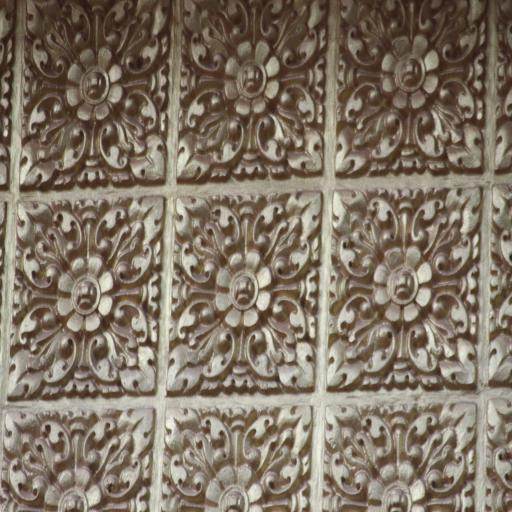hoa: (169, 187, 319, 393), (13, 186, 160, 392), (338, 198, 476, 386), (27, 6, 166, 185), (332, 6, 482, 169), (185, 0, 323, 171), (160, 408, 309, 512), (0, 415, 152, 512), (327, 411, 469, 512)
